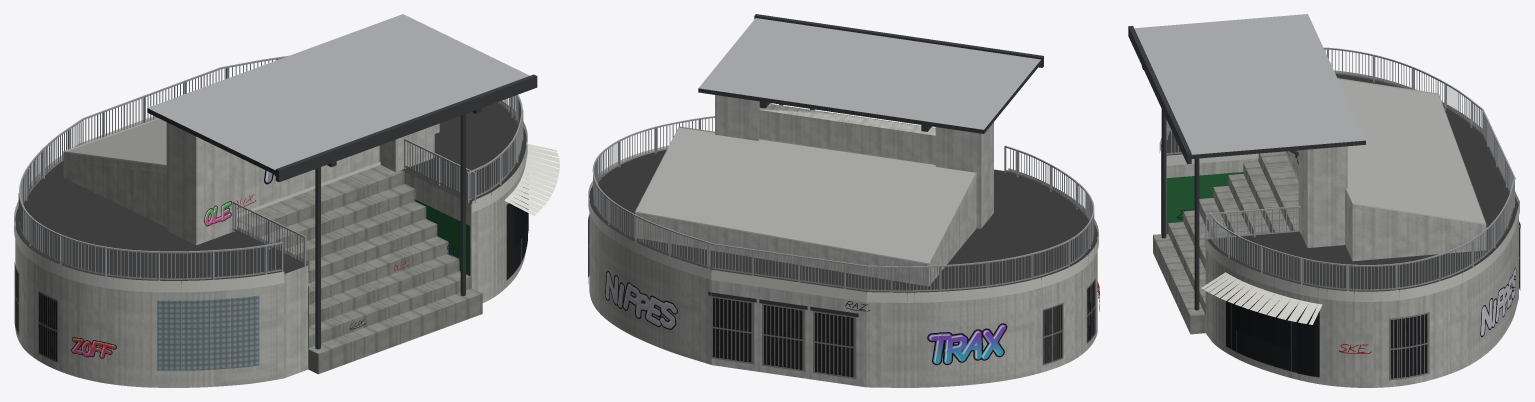
File: model_wilhelmplatz-tribuene.glb
3 renders of one model, left to right at view 1: azimuth 30°, elevation 25°; view 2: azimuth 150°, elevation 25°; view 3: azimuth 270°, elevation 25°, orthographic. The views are drawn at different scales.
Parts seen in each view (by area): view 1: wilhelmplatz-tribuene; view 2: wilhelmplatz-tribuene; view 3: wilhelmplatz-tribuene.
Boxes of the visible parts, <box> form: wilhelmplatz-tribuene: <box>14,14,559,387</box>; wilhelmplatz-tribuene: <box>588,14,1099,387</box>; wilhelmplatz-tribuene: <box>1128,14,1520,387</box>.
Size of the model in its own units: 20 by 8.25 by 14.39.
15 materials, 5 textured.
